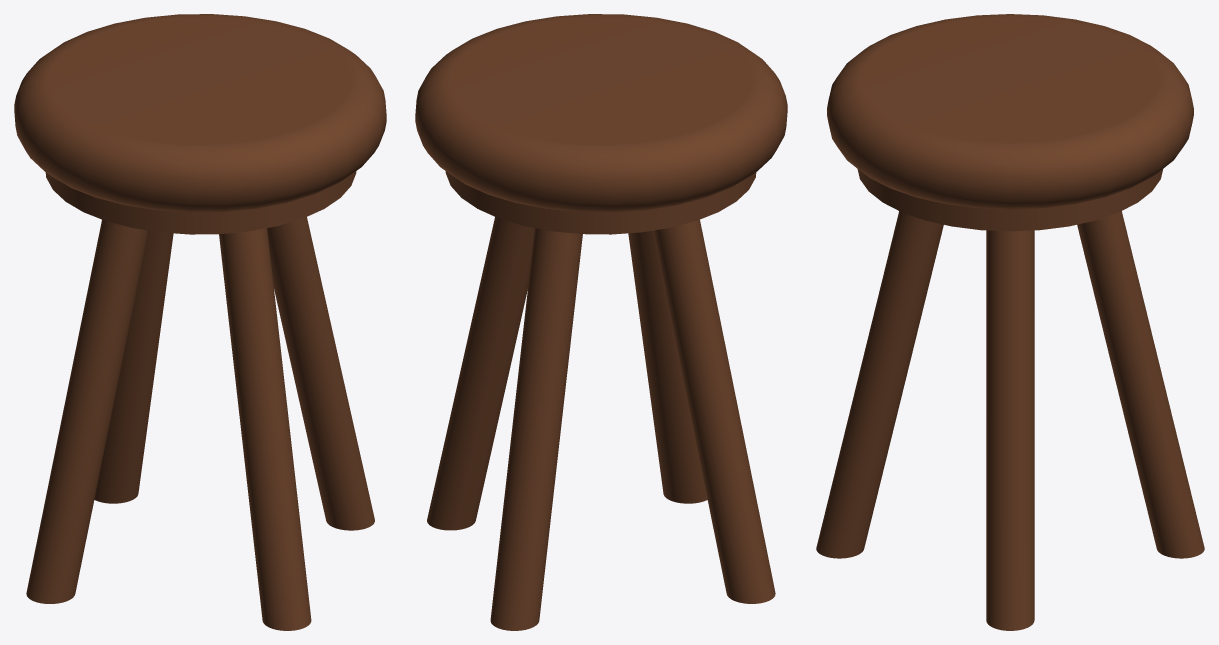
File: Tabouret3_6.fbx
3 views of the same model, side by side, from view 1: azimuth 30°, elevation 25°; view 2: azimuth 150°, elevation 25°; view 3: azimuth 270°, elevation 25° (orthographic).
Parts seen in each view (by area): view 1: polySurface972, pCylinder1640, pCylinder1641; view 2: polySurface972, pCylinder1640, pCylinder1641; view 3: pCylinder1640, polySurface972, pCylinder1641.
Part boxes in pixels (x1,y1,x2,y2): polySurface972: [26, 217, 374, 630]; pCylinder1640: [14, 14, 386, 212]; pCylinder1641: [45, 171, 356, 234]; polySurface972: [427, 217, 775, 630]; pCylinder1640: [415, 14, 787, 212]; pCylinder1641: [445, 171, 756, 234]; pCylinder1640: [827, 14, 1193, 209]; polySurface972: [816, 211, 1204, 630]; pCylinder1641: [857, 169, 1162, 231].
Size of the model in its own units: 39.54 by 52.62 by 39.53.
